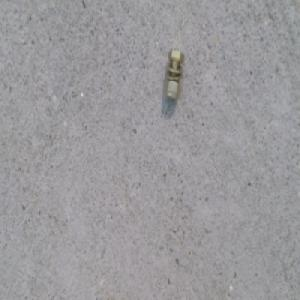BoltNutSet: (161, 52, 184, 102)
